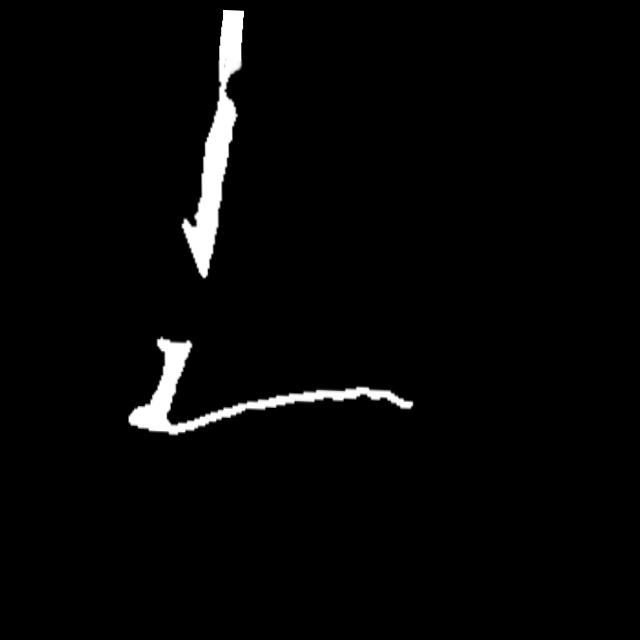sl: (208, 49, 250, 125)
